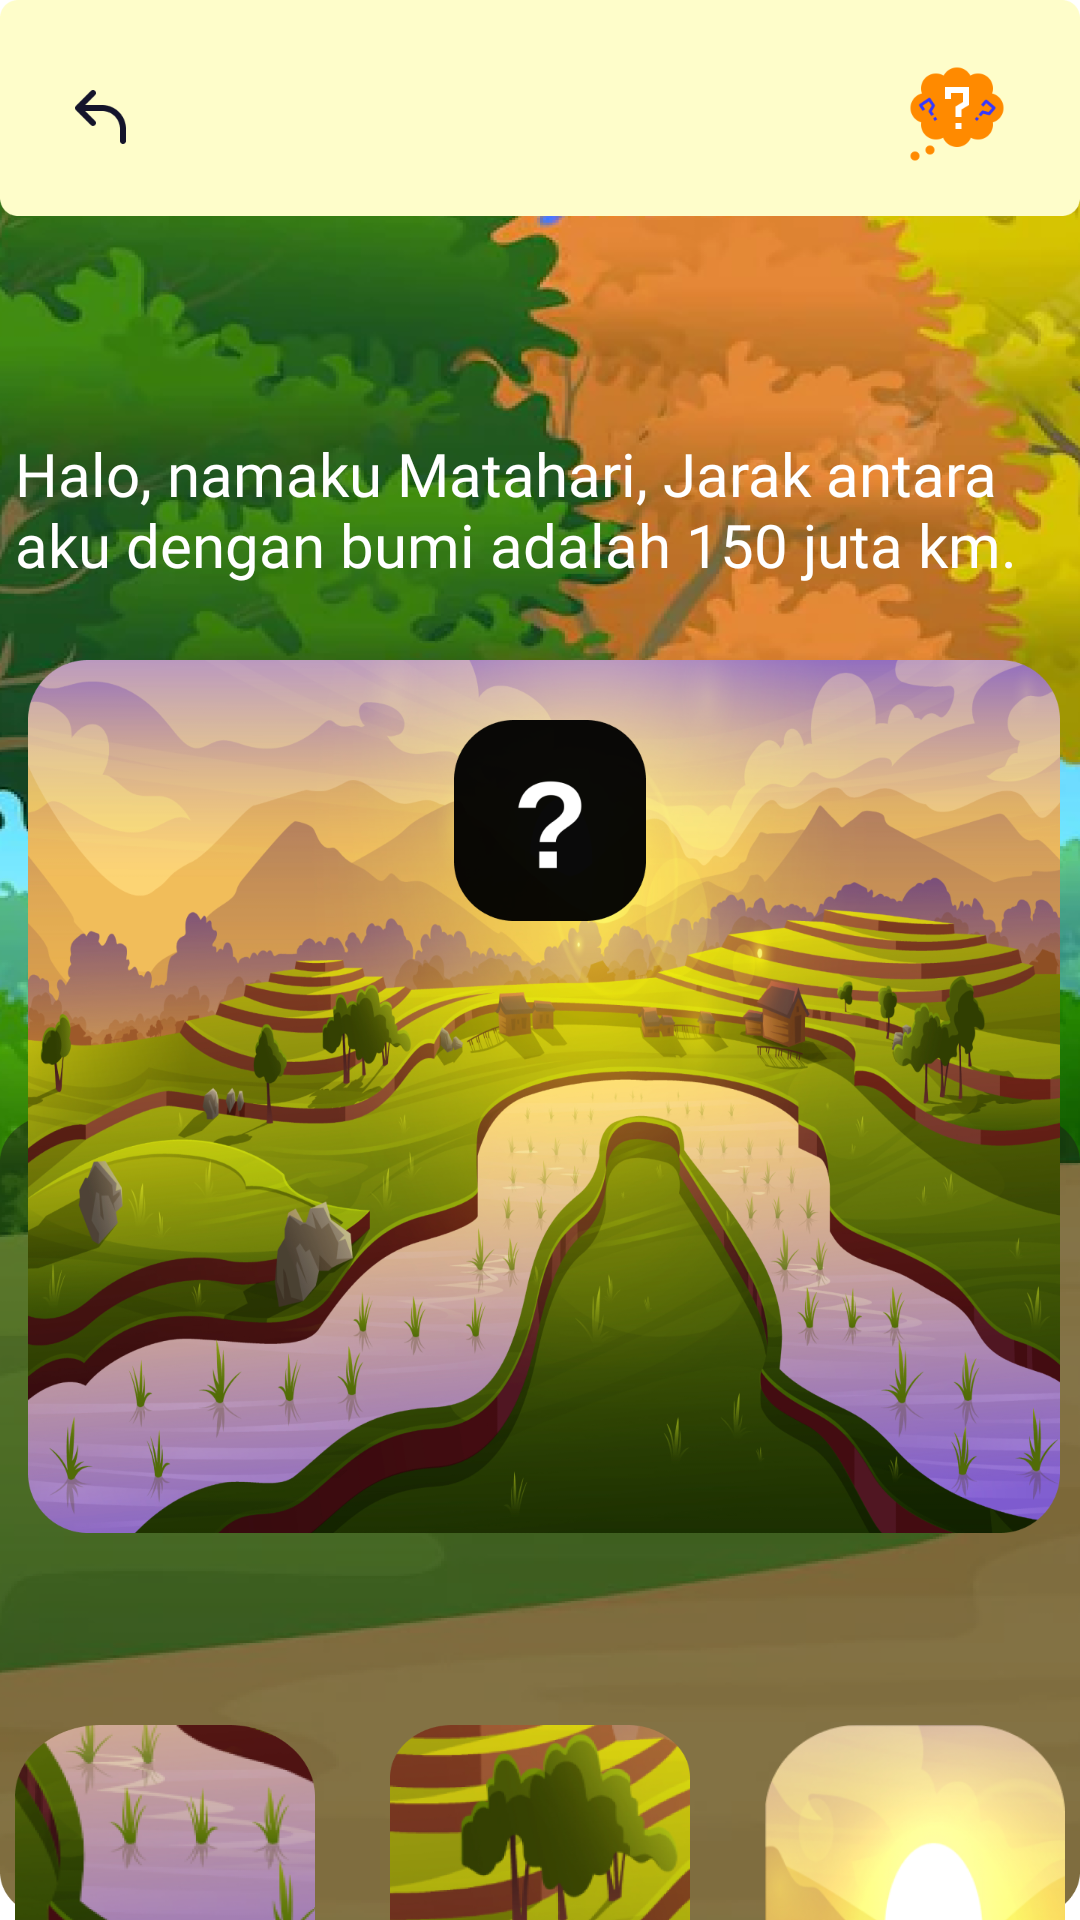

Locate icon controls on the screen. Image size 1080w x 1920h, boxes as Rect(x1, y1, x2, y2).
back: Rect(75, 90, 126, 144)
help: Rect(910, 67, 1004, 161)
